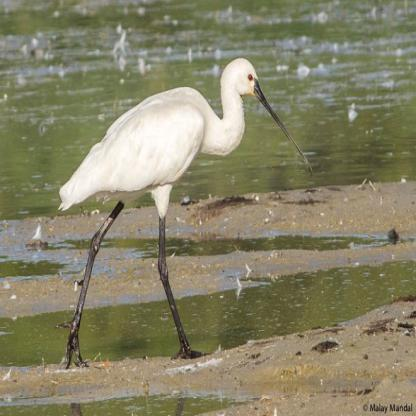Burung: (57, 55, 314, 374)
